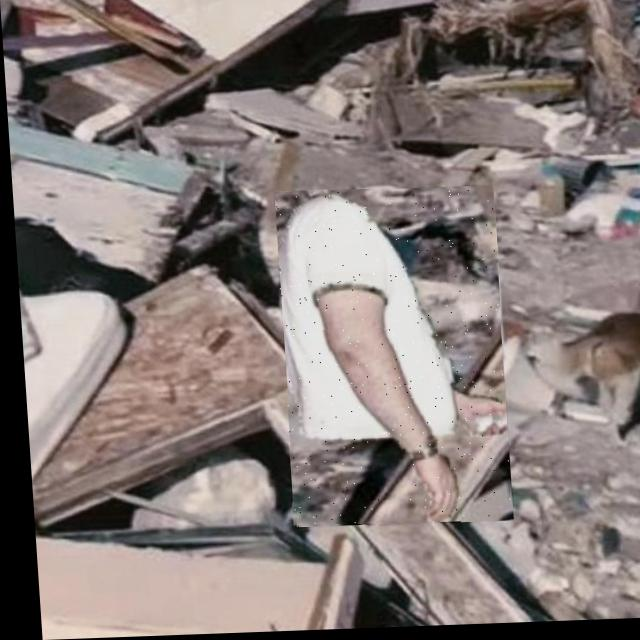Person in Rubble: (271, 188, 507, 530)
